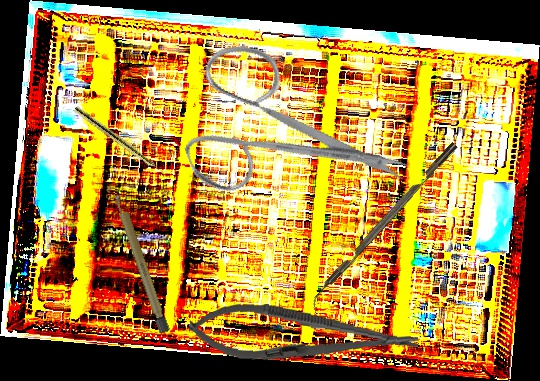Chopper: (304, 142, 466, 313)
Handpiece: (72, 105, 172, 181)
Iris Scissors: (155, 0, 414, 252)
Needle Holder: (187, 299, 420, 372)
Scalpel Handle: (111, 189, 171, 336)
